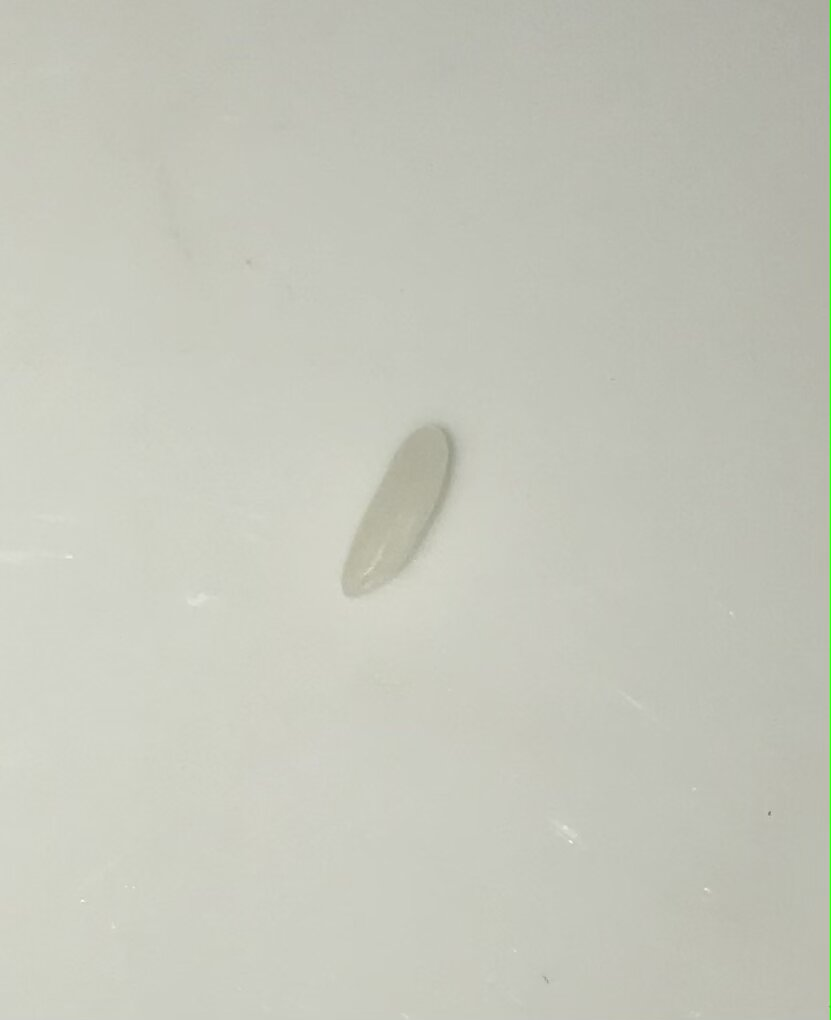Gao Lai Sua: (339, 416, 474, 599)
